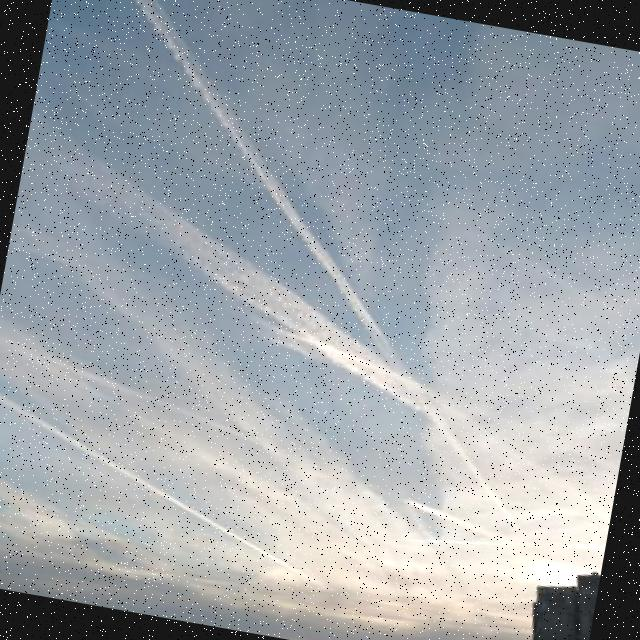Ct: (1, 1, 640, 542)
